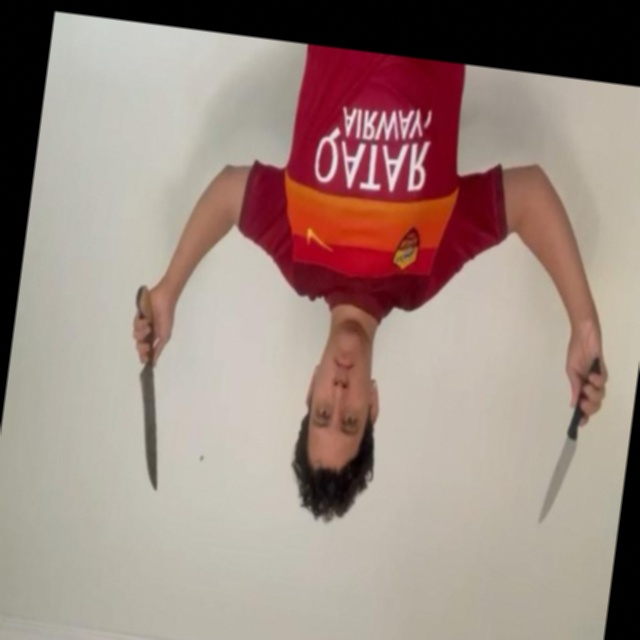Sharp-Object: (126, 366, 173, 493), (539, 437, 576, 526)
